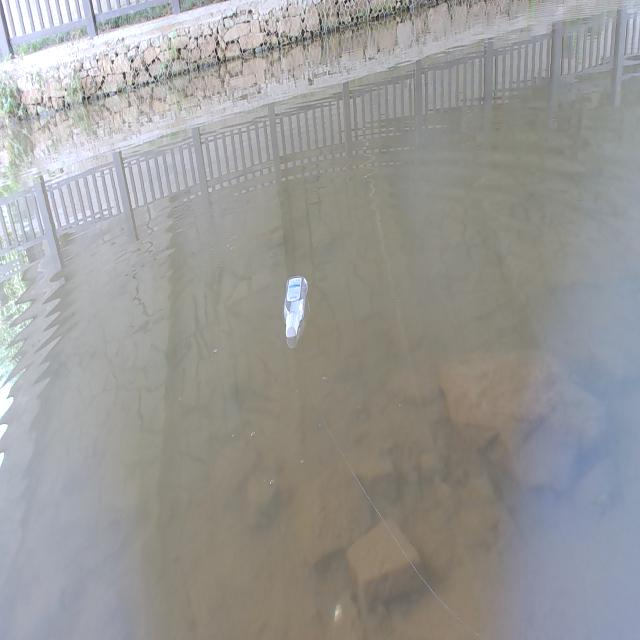bottle: (272, 260, 321, 352)
